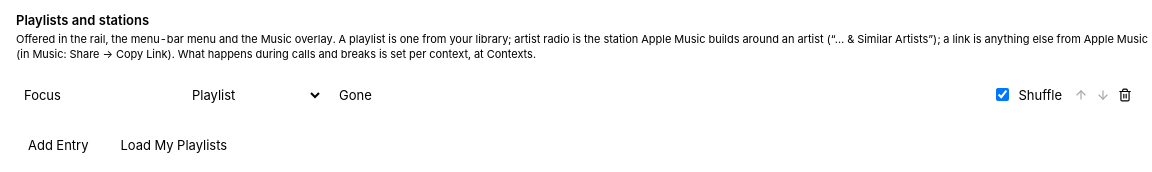
Scenario: MusicPage › playlists › keeps a current playlist missing from the library at the top of the select
Click the button "Load My Playlists".
click(174, 145)  # box [108, 134, 239, 156]
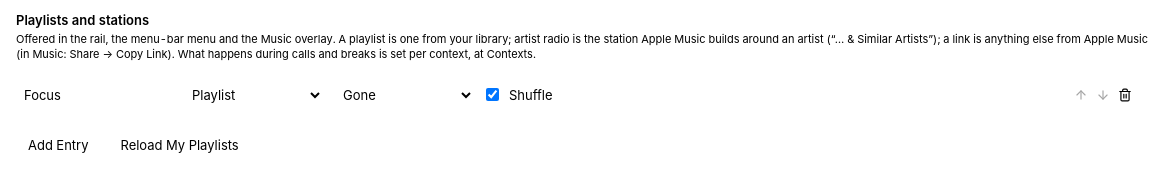
Result: the dropdown named "Playlist" shows "Gone" at [331, 84, 474, 106]
